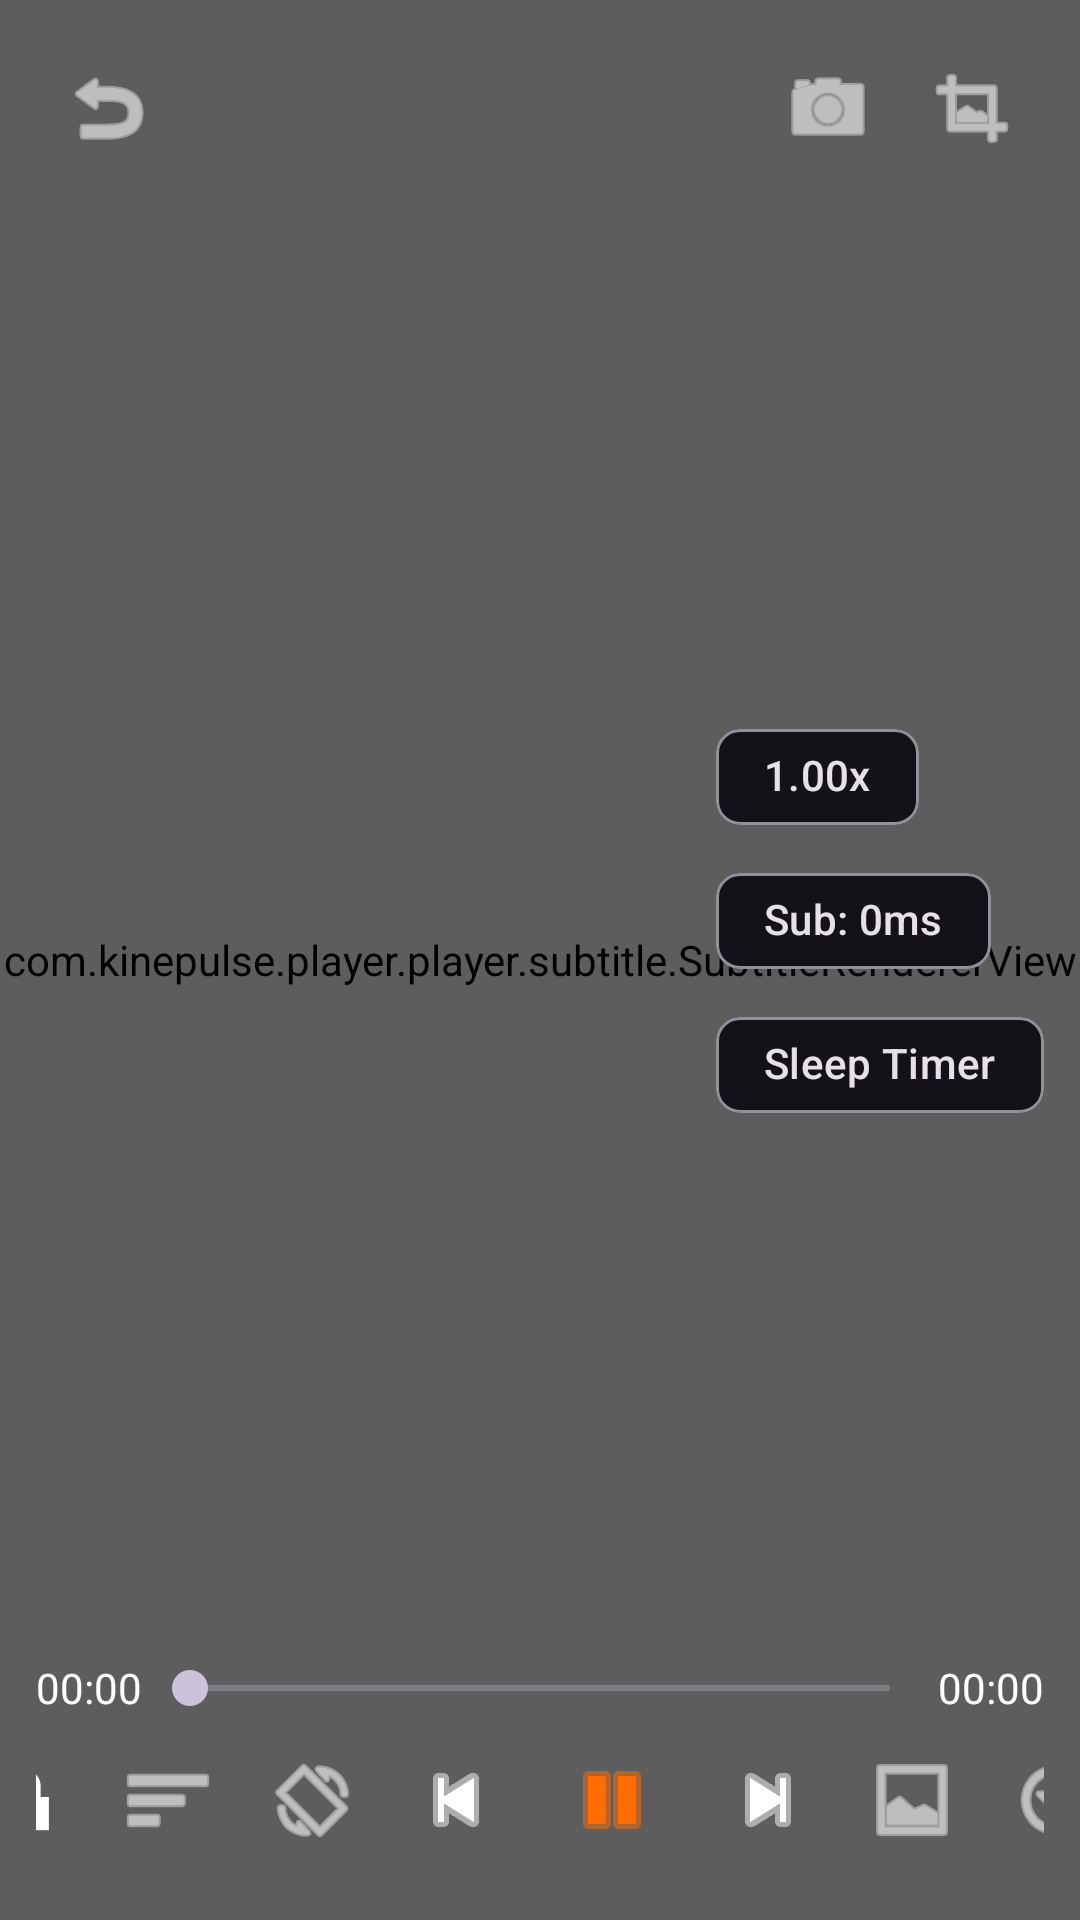

Named icons in this screenshot (1080px×1920px) and their bounding boxes, {"x1": x1, "y1": y1, "x2": x2, "y2": y2}:
Audio & Subtitle Tracks: {"x1": 127, "y1": 1774, "x2": 209, "y2": 1827}
Back: {"x1": 75, "y1": 78, "x2": 144, "y2": 140}
Next: {"x1": 745, "y1": 1773, "x2": 791, "y2": 1827}
Play or Pause: {"x1": 583, "y1": 1771, "x2": 641, "y2": 1829}
Previous: {"x1": 433, "y1": 1773, "x2": 479, "y2": 1827}
Screen Orientation: {"x1": 275, "y1": 1764, "x2": 349, "y2": 1837}
Take screenshot: {"x1": 791, "y1": 77, "x2": 865, "y2": 136}
